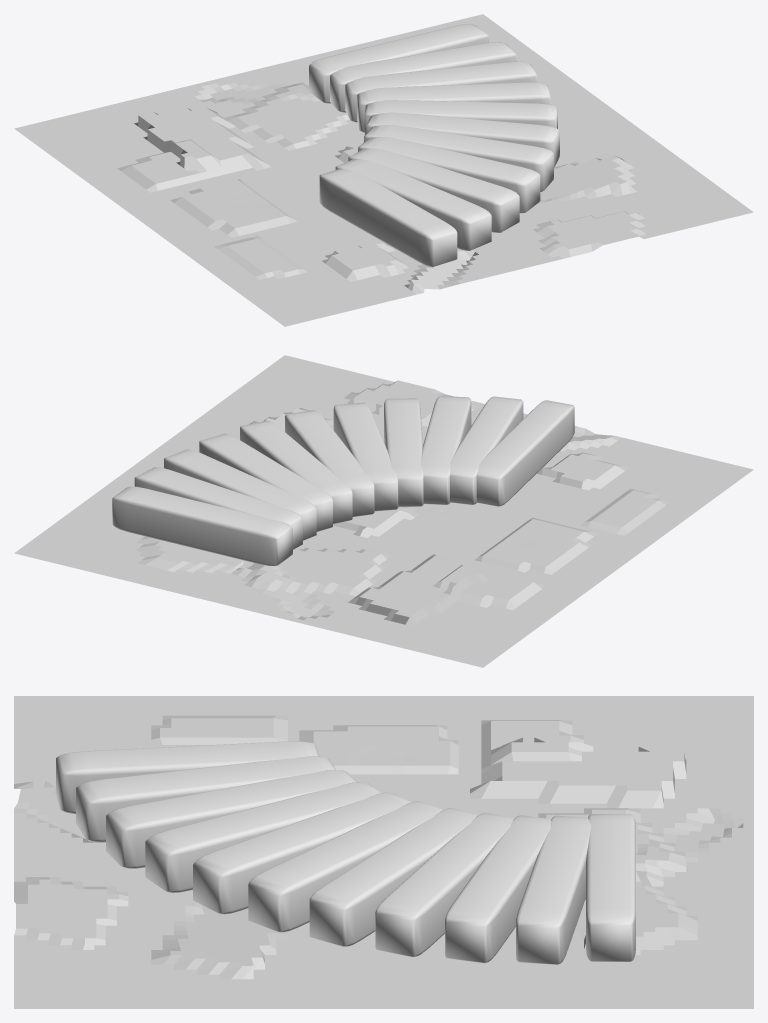
Rendered from fries.fbx.
The picture shows the model from 3 angles, top to bottom: view 1: azimuth 30°, elevation 25°; view 2: azimuth 150°, elevation 25°; view 3: azimuth 270°, elevation 25°; orthographic projection. The views are drawn at different scales.
Parts seen in each view (by area): view 1: Plane, Cube; view 2: Plane, Cube; view 3: Plane, Cube.
Part boxes in pixels (<box>): Plane: <box>14,14,753,326</box>; Cube: <box>309,24,559,267</box>; Plane: <box>14,355,753,667</box>; Cube: <box>112,396,574,565</box>; Plane: <box>14,696,753,1008</box>; Cube: <box>56,741,635,964</box>.
Bounding box in the file's own units: 138 × 12.49 × 138.
